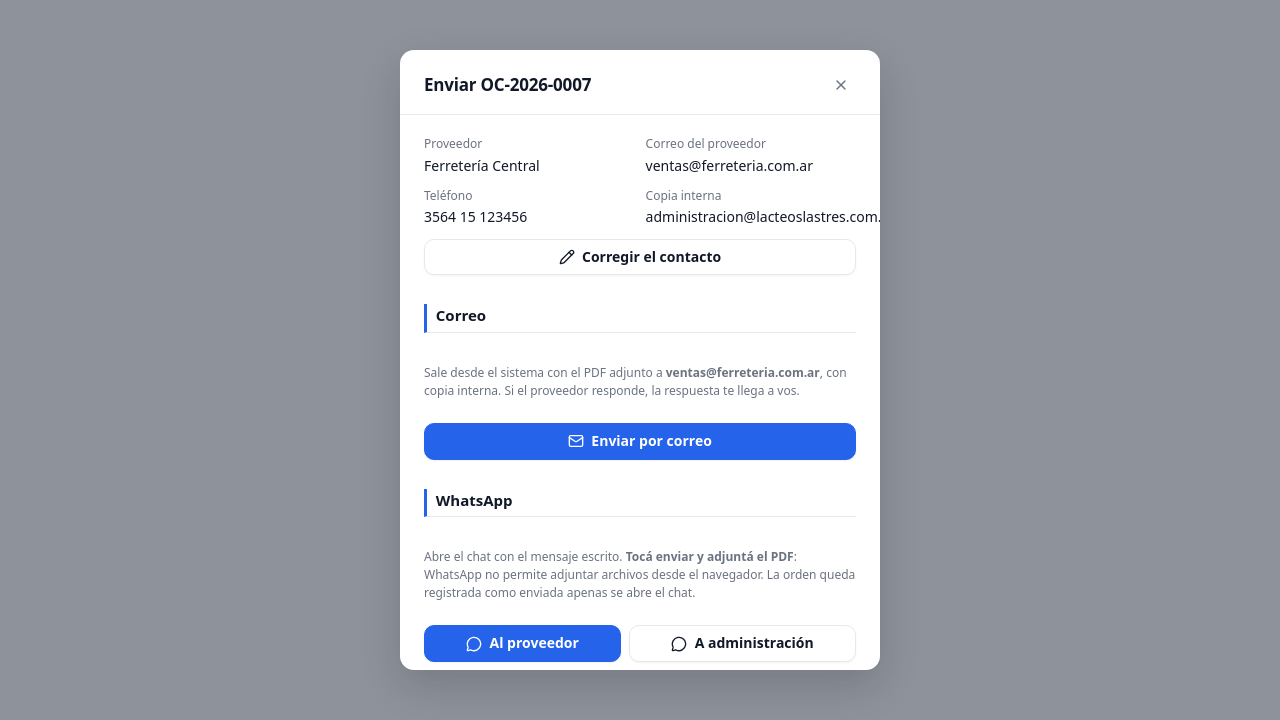
Test: EnviarOrden — correo automático › REGRESION: si el servidor no tiene SMTP, ofrece mandarla a mano
Click the button "Enviar por correo".
click(640, 441)  # box [424,423,856,460]
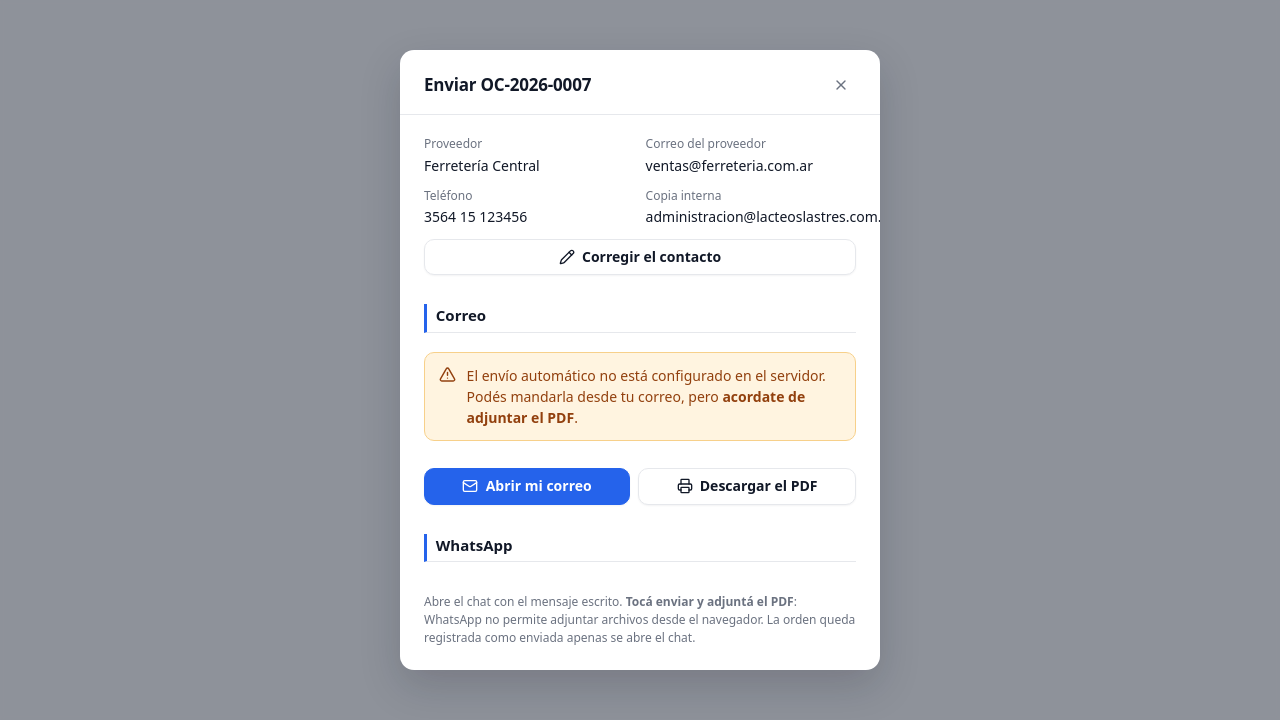
Expected: the link "Abrir mi correo" is shown, [424,468,630,505]
Expected: the text "no está configurado" is shown, [467,366,826,406]
